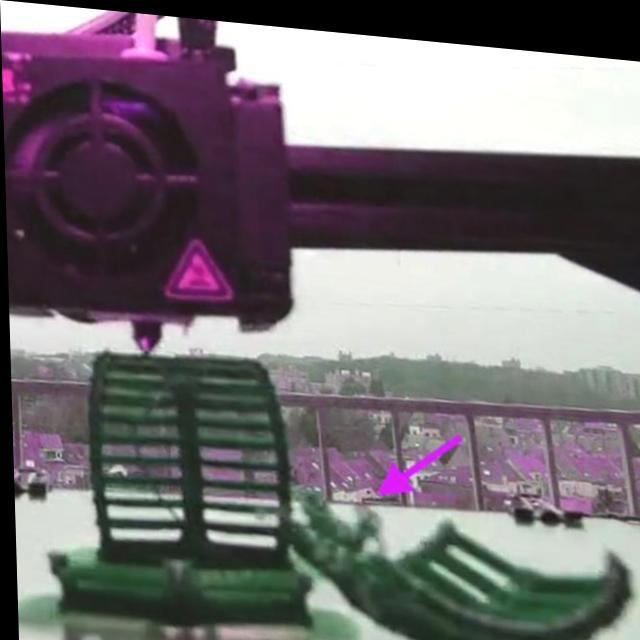spaghetti: (276, 475, 383, 576)
